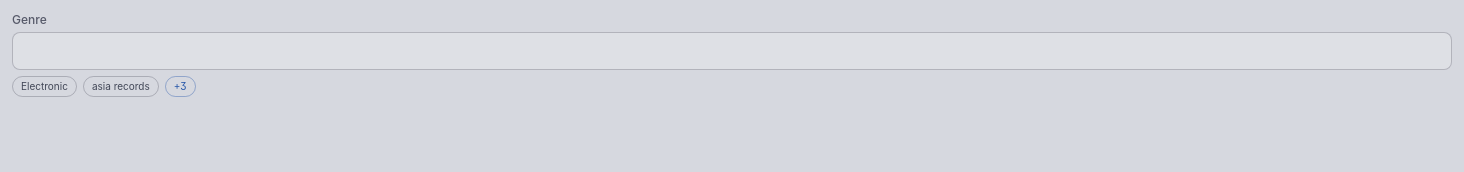
Test: Field suggestion chips layout › despliega el resto en varias líneas al pulsar +N
Click the button with test id "chip-more".
click(180, 86)  # box [165, 76, 196, 97]
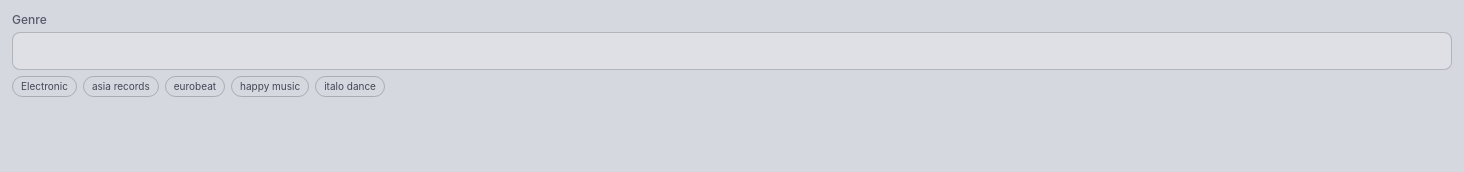
Expected: the button with test id "chip-happy music" is shown, [231, 76, 309, 97]
Expected: the button with test id "chip-italo dance" is shown, [315, 76, 385, 97]
Expected: the button with test id "chip-more" is gone
